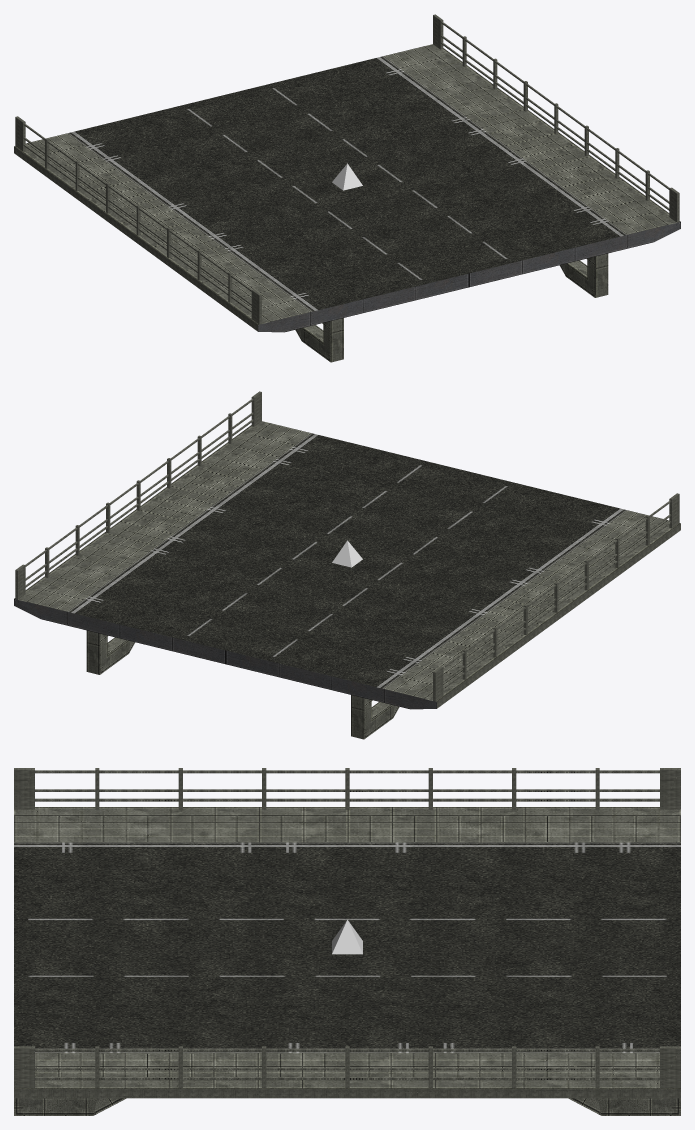
The model's file is ibbsegLT00.FBX.
3 views of the same model, one above another, from view 1: azimuth 30°, elevation 25°; view 2: azimuth 150°, elevation 25°; view 3: azimuth 270°, elevation 25° (orthographic). The views are drawn at different scales.
Visible parts, largest first — view 1: ibbseg00; view 2: ibbseg00; view 3: ibbseg00, hp_com_1.
Boxes of the visible parts, x1,y1,x2,y2 form: ibbseg00: [14, 14, 680, 362]; ibbseg00: [14, 391, 680, 739]; ibbseg00: [14, 768, 680, 1115]; hp_com_1: [332, 920, 362, 954].
Size of what is drawn, in the model's own units: 32 by 32 by 9.1.
